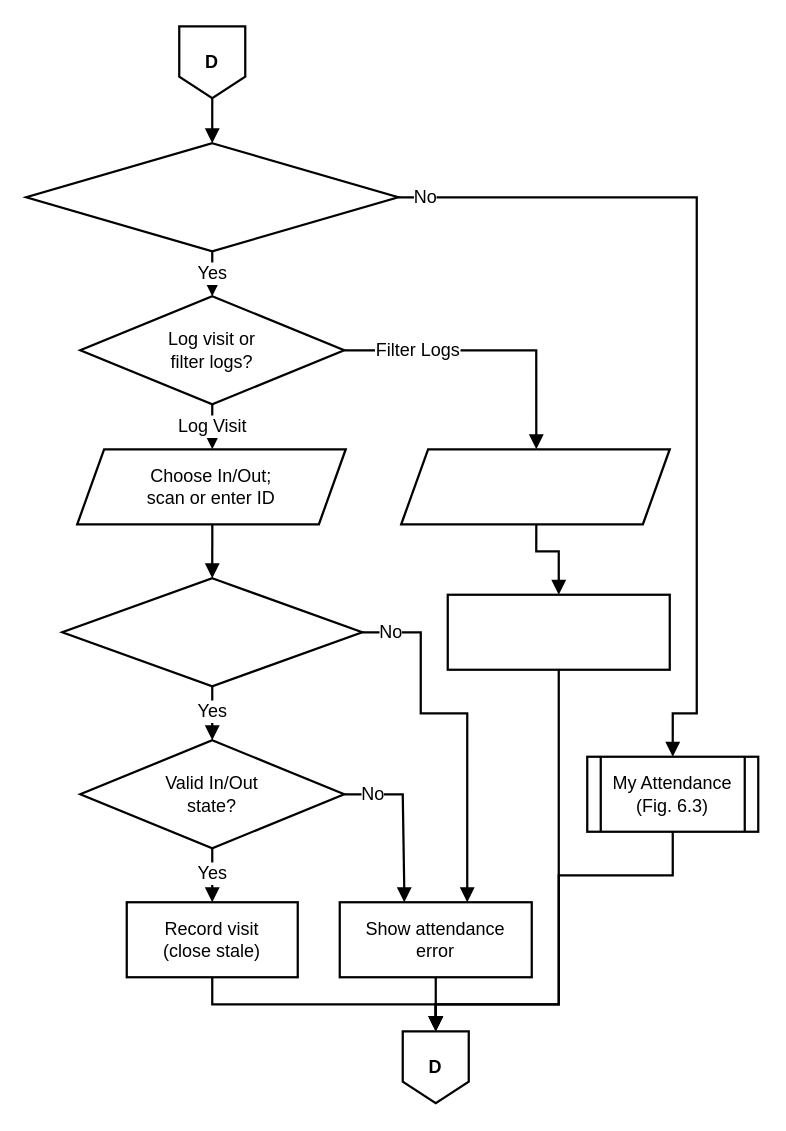
The diagram is 786 pixels wide and 1131 high, and some of its shapes have lost their labels. The shapes that lost their labels are listed below. From the top down, each one's centre as x and y in pixels, then its label:
At point 211,196: "Active & manage_attendance?".
At point 534,486: "Search patron or date range".
At point 211,631: "Card & account Active?".
At point 558,631: "View logs & status badges".
